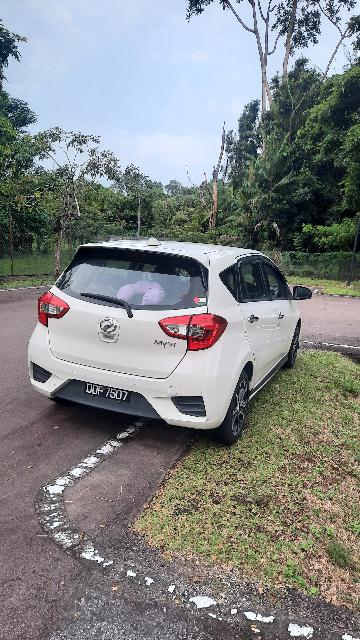License_Plate: (81, 378, 134, 405)
car: (24, 231, 317, 448)
